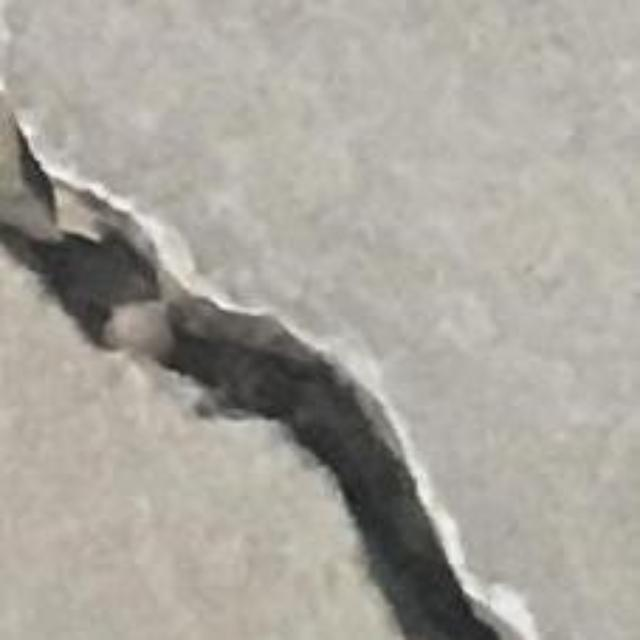crack: (0, 94, 535, 639)
